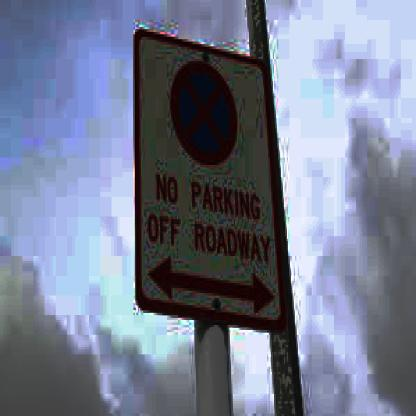No stopping: (164, 56, 239, 170)
